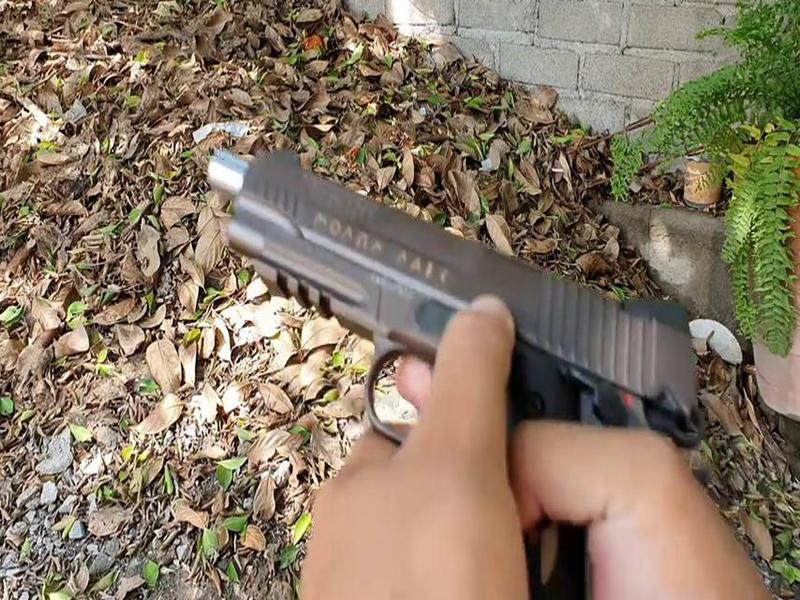Pistola: (184, 104, 744, 530)
